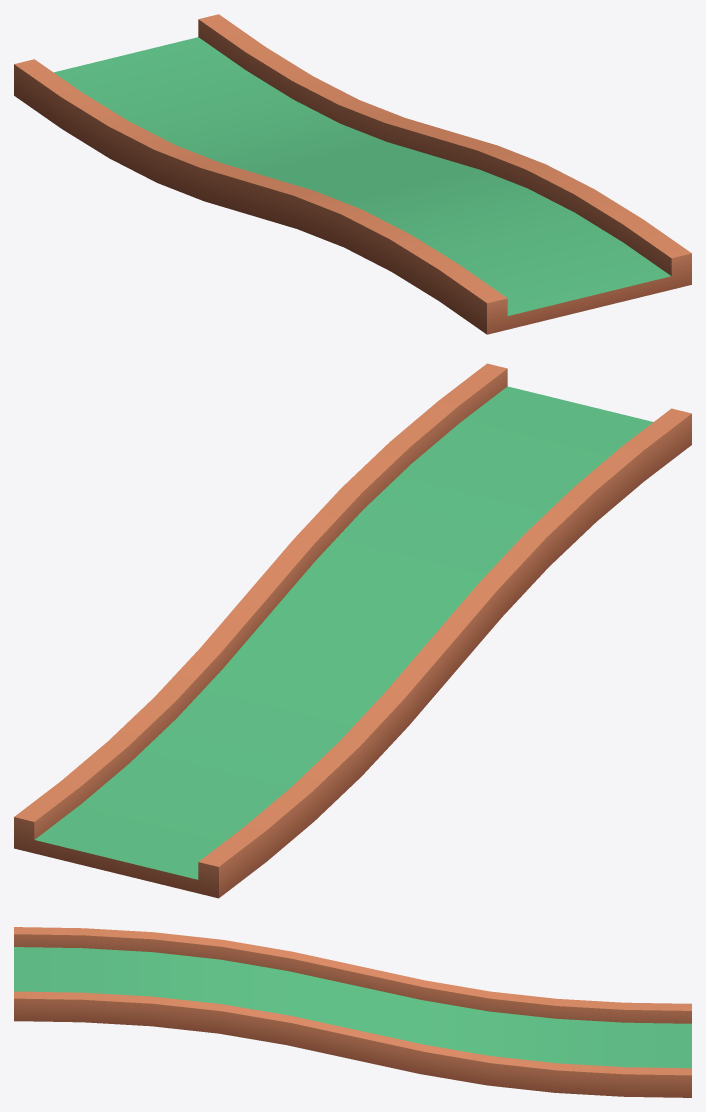
Rendered from spline-default-straight-hill-complete-half.glb.
The picture shows the model from 3 angles, top to bottom: view 1: azimuth 30°, elevation 25°; view 2: azimuth 150°, elevation 25°; view 3: azimuth 270°, elevation 25°; orthographic projection. The views are drawn at different scales.
Visible parts, largest first — view 1: spline-default-straight-hill-complete-half; view 2: spline-default-straight-hill-complete-half; view 3: spline-default-straight-hill-complete-half.
Part boxes in pixels (x1,y1,x2,y2): spline-default-straight-hill-complete-half: (14, 14, 691, 334); spline-default-straight-hill-complete-half: (14, 363, 691, 898); spline-default-straight-hill-complete-half: (14, 927, 691, 1097).
Size of the model in its own units: 0.9998 by 0.6468 by 4.
1 material, 1 textured.
